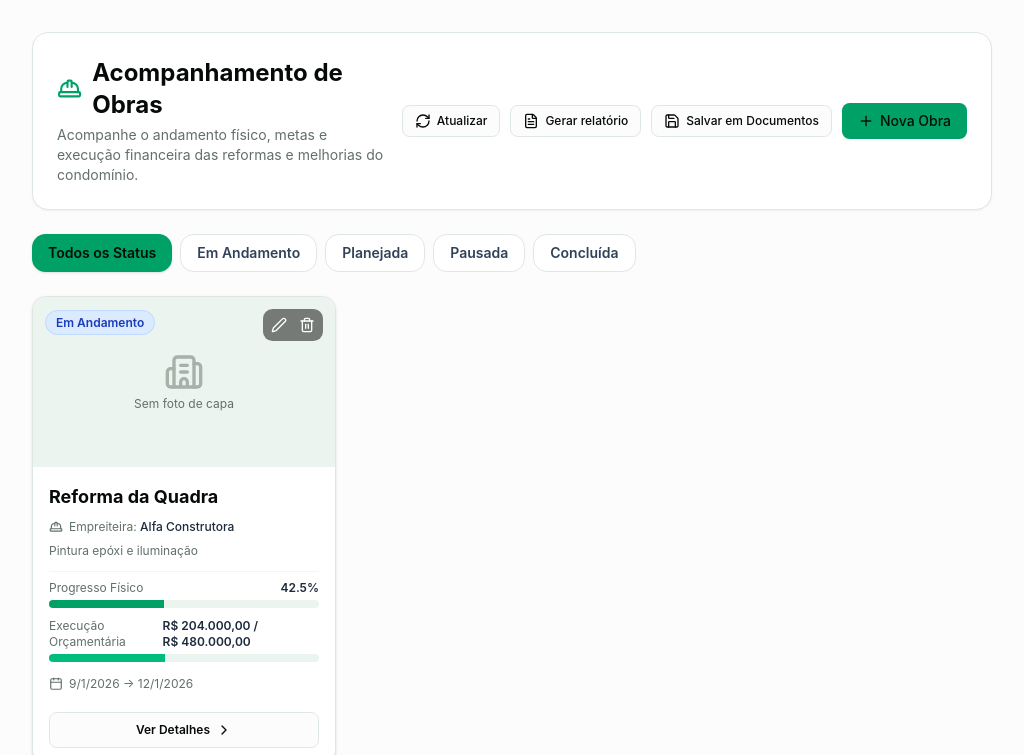
Test: ConstructionTrackerPage report figures › shows the planned-vs-actual bar driven by the payload's curve
Step 1. Click the button "Ver Detalhes" → {"x": 184, "y": 730}, box [49,712,319,748]
(page scrolled)
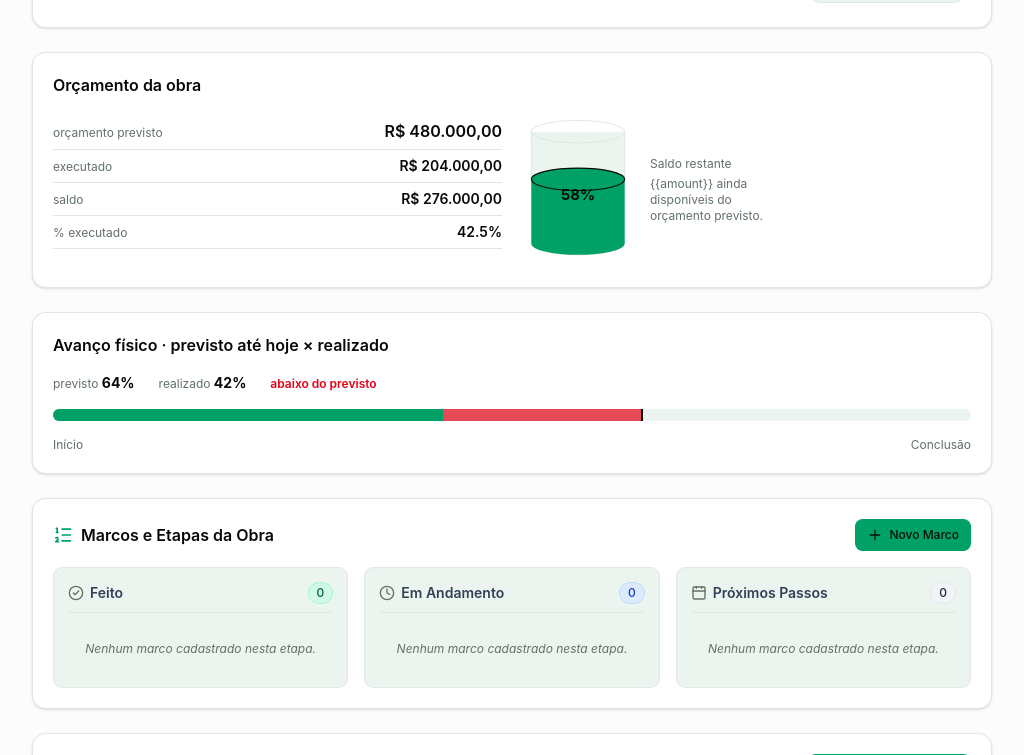
Expected: the text with test id "progress-planned-value" reads "64%", [102,374,135,391]
Expected: the text with test id "progress-realized-value" reads "42%", [214,374,246,391]
Expected: the text "abaixo do previsto" is shown, [270,376,377,392]
